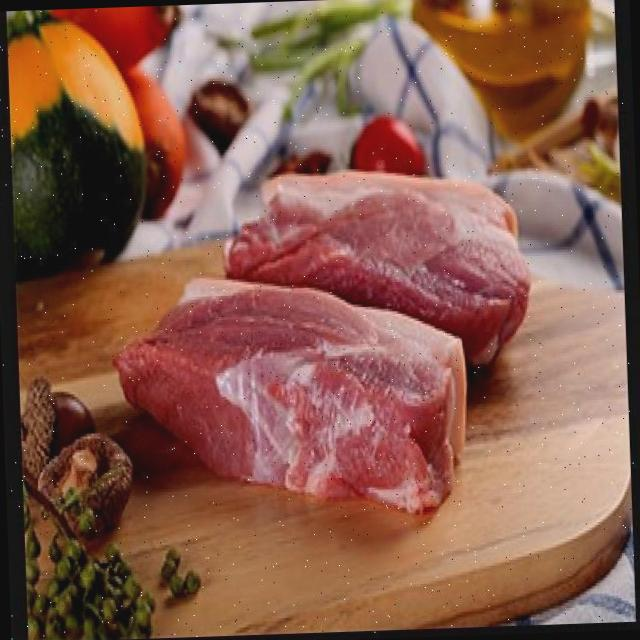pork: (103, 252, 480, 538), (224, 154, 534, 354)
